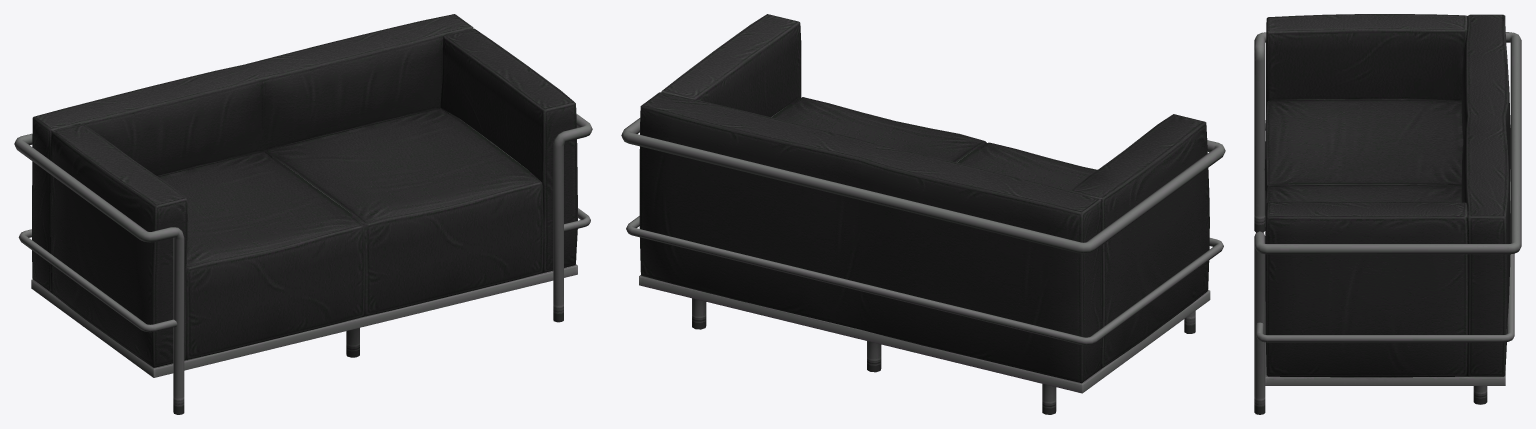
File: sofa_modern.dae
3 views of the same model, side by side, from view 1: azimuth 30°, elevation 25°; view 2: azimuth 150°, elevation 25°; view 3: azimuth 270°, elevation 25° (orthographic). The views are drawn at different scales.
Visible parts, largest first — view 1: low; view 2: low; view 3: low.
Part boxes in pixels (left/top/right/bottom): low: left=14, top=14, right=592, bottom=414; low: left=621, top=14, right=1225, bottom=414; low: left=1254, top=14, right=1521, bottom=414.
Bounding box in the file's own units: 2.53 × 1.13 × 1.32.
